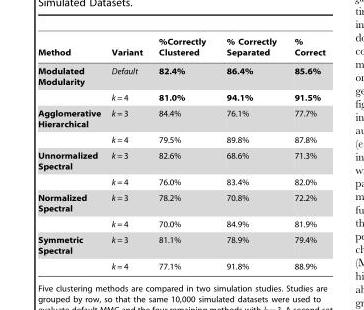table: (37, 37, 324, 270)
table column: (215, 37, 284, 270), (37, 37, 105, 270), (150, 37, 215, 270), (105, 37, 150, 270), (284, 37, 324, 270)
table column header: (37, 37, 324, 61)
table row: (37, 61, 324, 89), (37, 147, 324, 174), (37, 189, 324, 216), (37, 231, 324, 258), (37, 105, 324, 131), (37, 37, 324, 61), (37, 89, 324, 105), (37, 131, 324, 147), (37, 174, 324, 189), (37, 216, 324, 231), (37, 258, 324, 270)
table spanning cell: (37, 61, 105, 105), (37, 105, 105, 147), (37, 147, 105, 189), (37, 189, 105, 231), (37, 231, 105, 270)
